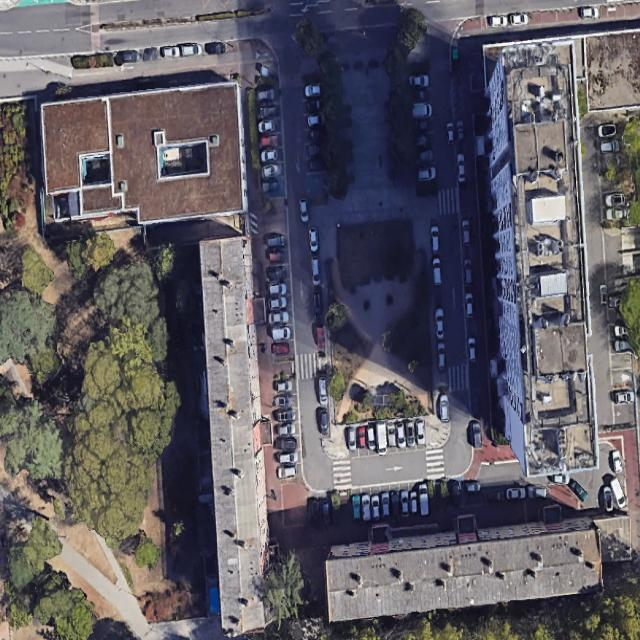immeuble: (477, 38, 600, 480), (319, 501, 606, 621), (37, 82, 250, 233), (195, 236, 274, 636), (584, 32, 640, 109)
